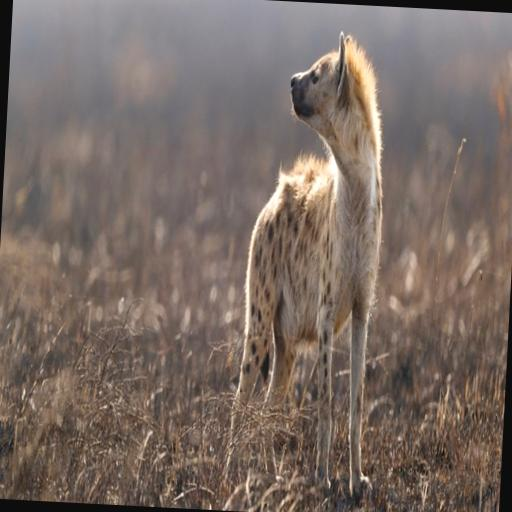hyenas: (195, 8, 429, 456)
